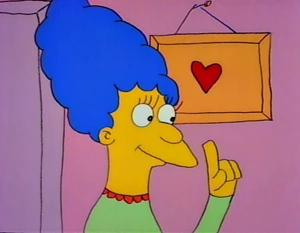Marge: (26, 1, 248, 233)
